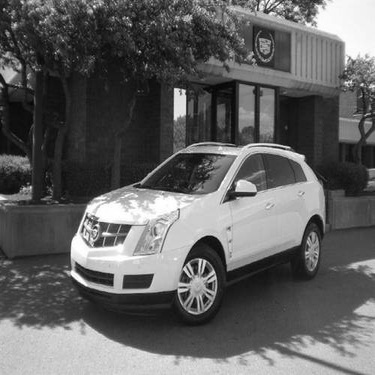car: (54, 132, 333, 331)
